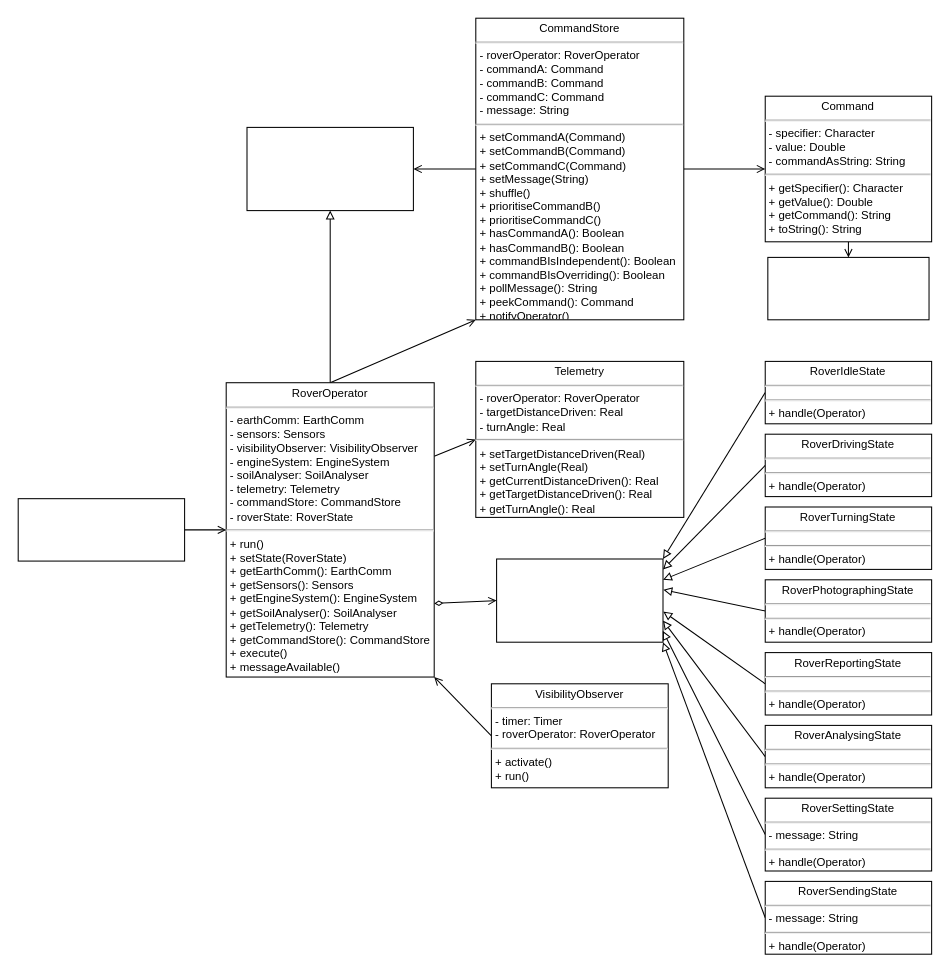
This 951x972 diagram has some shape labels left out. The centre of each missing label's shape, as x and y in pixels:
<<Interface>> CommandStoreObserver + messageAvailable(): the point at 329,168
<<Interface>> RoverState + handle(Operator): the point at 579,600
CommandValidator + isValidCommand(): Boolean: the point at 848,288
Main + main(String[0..*]): the point at 101,529
